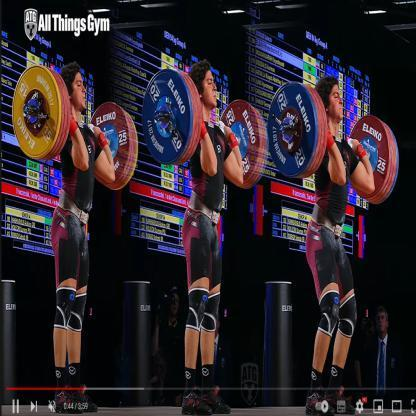barbell: (266, 79, 401, 206), (11, 65, 138, 191), (142, 67, 269, 191)
